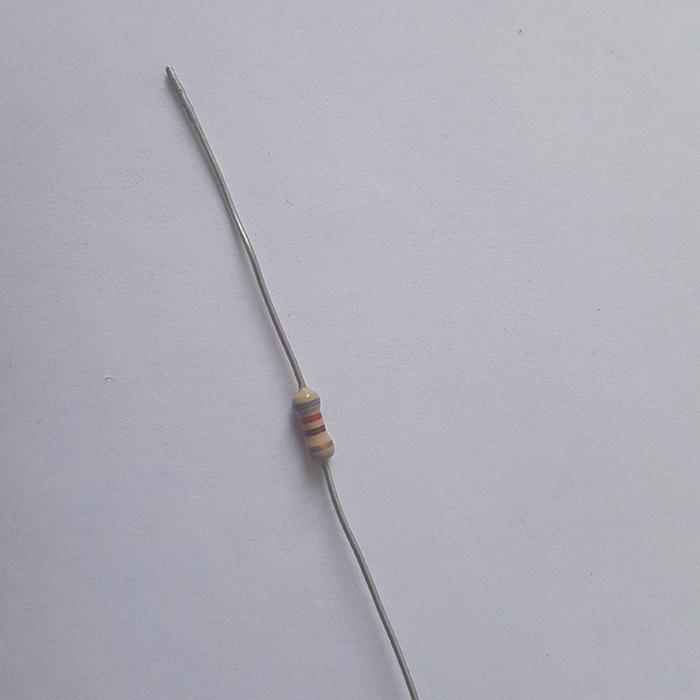resistor: (291, 384, 334, 460)
